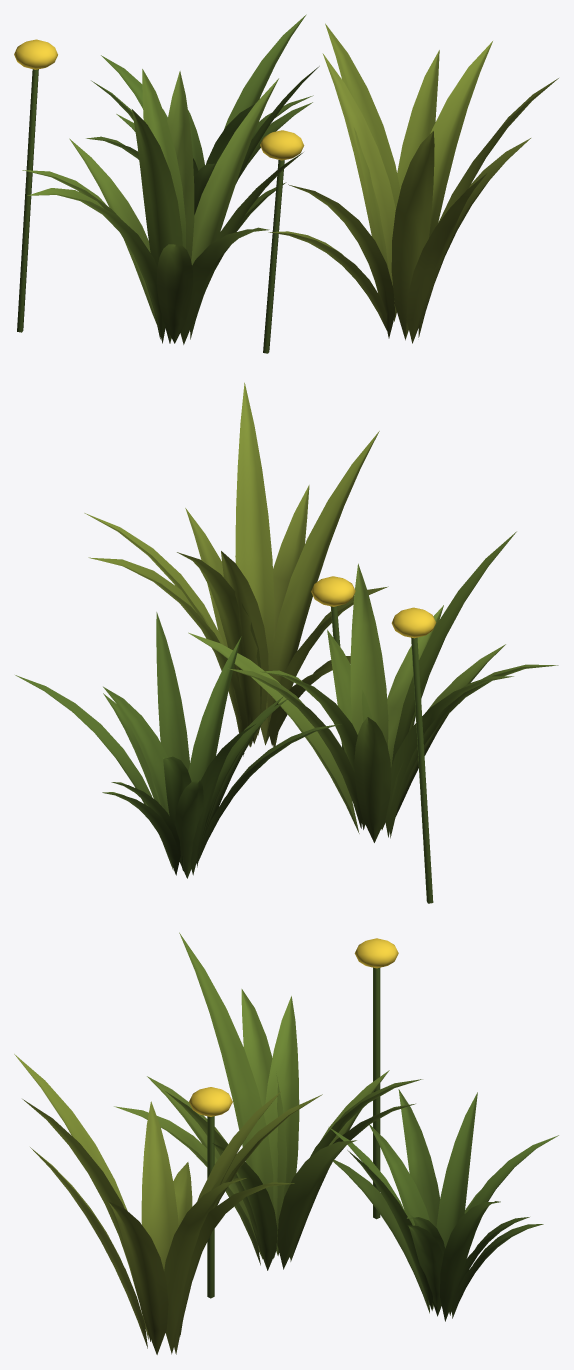
Rendered from yd_weeds__220.glb.
3 renders of one model, top to bottom at view 1: azimuth 30°, elevation 25°; view 2: azimuth 150°, elevation 25°; view 3: azimuth 270°, elevation 25°, orthographic.
Visible parts, largest first — view 1: prop_yd_weeds; view 2: prop_yd_weeds; view 3: prop_yd_weeds.
Boxes of the visible parts, <box> form: prop_yd_weeds: <box>14,14,558,353</box>; prop_yd_weeds: <box>15,382,558,903</box>; prop_yd_weeds: <box>14,932,558,1354</box>.
Bounding box in the file's own units: 0.5871 × 0.3548 × 0.5937.
